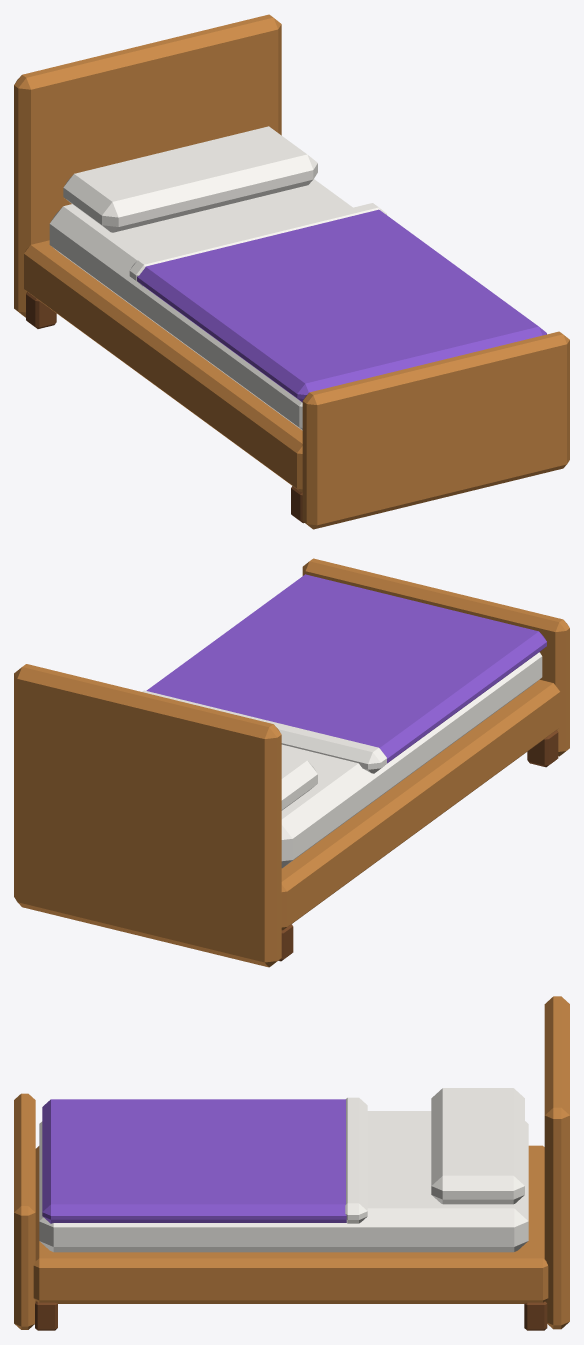
File: PurpleBed.fbx
3 renders of one model, top to bottom at view 1: azimuth 30°, elevation 25°; view 2: azimuth 150°, elevation 25°; view 3: azimuth 270°, elevation 25°, orthographic. The views are drawn at different scales.
Visible parts, largest first — view 1: PurpleBed; view 2: PurpleBed; view 3: PurpleBed.
Boxes of the visible parts, <box> form: PurpleBed: <box>14,14,569,529</box>; PurpleBed: <box>14,558,569,967</box>; PurpleBed: <box>14,996,569,1330</box>.
Bounding box in the file's own units: 3.9 × 3.4 × 7.73.
1 material, 1 textured.
